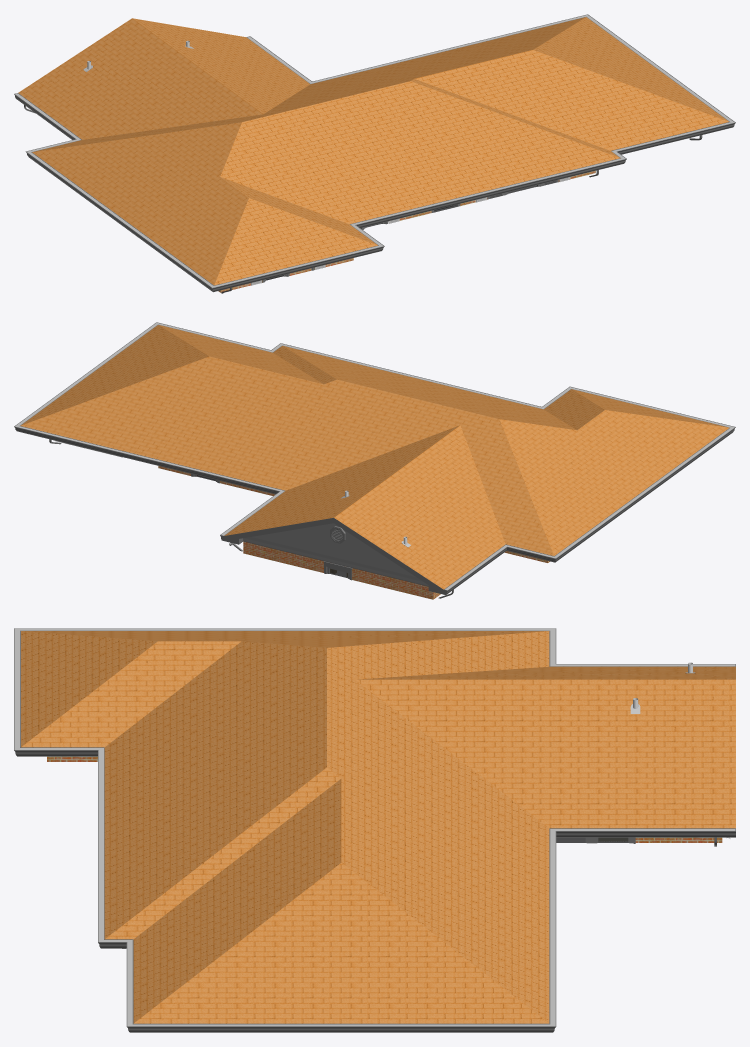
File: casa4.glb
3 renders of one model, top to bottom at view 1: azimuth 30°, elevation 25°; view 2: azimuth 150°, elevation 25°; view 3: azimuth 270°, elevation 25°, orthographic. The views are drawn at different scales.
Parts seen in each view (by area): view 1: object 1; view 2: object 1; view 3: object 1.
Part boxes in pixels (x1=…): object 1: x1=14, y1=14, x2=735, y2=293; object 1: x1=14, y1=322, x2=735, y2=599; object 1: x1=14, y1=628, x2=735, y2=1032.
Size of the model in its own units: 20.13 by 2.46 by 15.42.
Materials: 50 (18 with a texture image).
